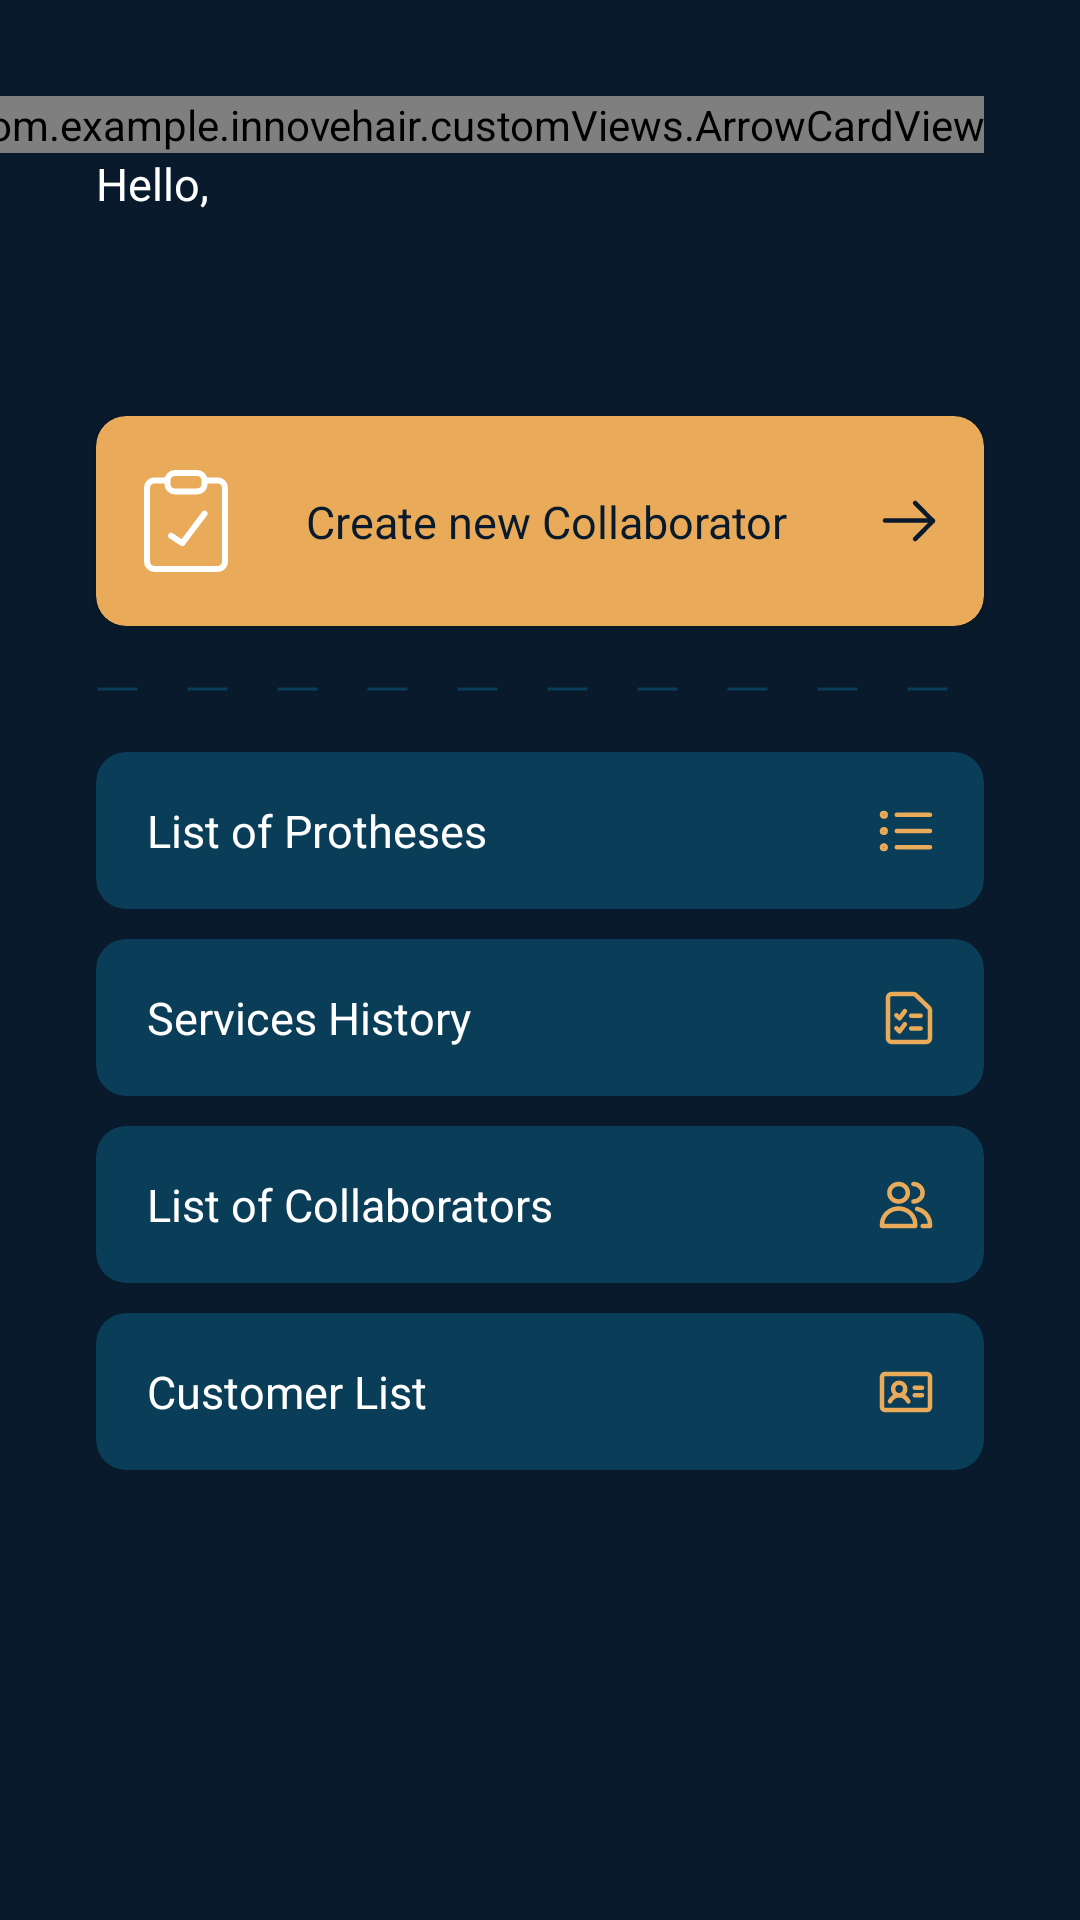

Screen size 1080x1920. Icon name, then its center in pixels as (x=x, y=y):
arrow right: (x=909, y=521)
list: (x=906, y=831)
user card: (x=906, y=1392)
users: (x=906, y=1205)
